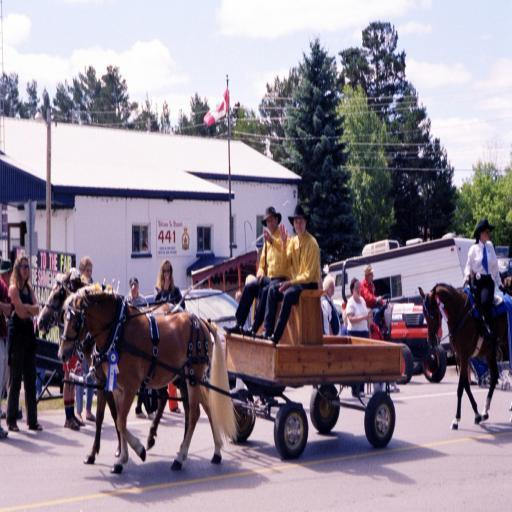horse: (58, 286, 242, 474), (36, 272, 190, 463), (417, 282, 512, 430)
